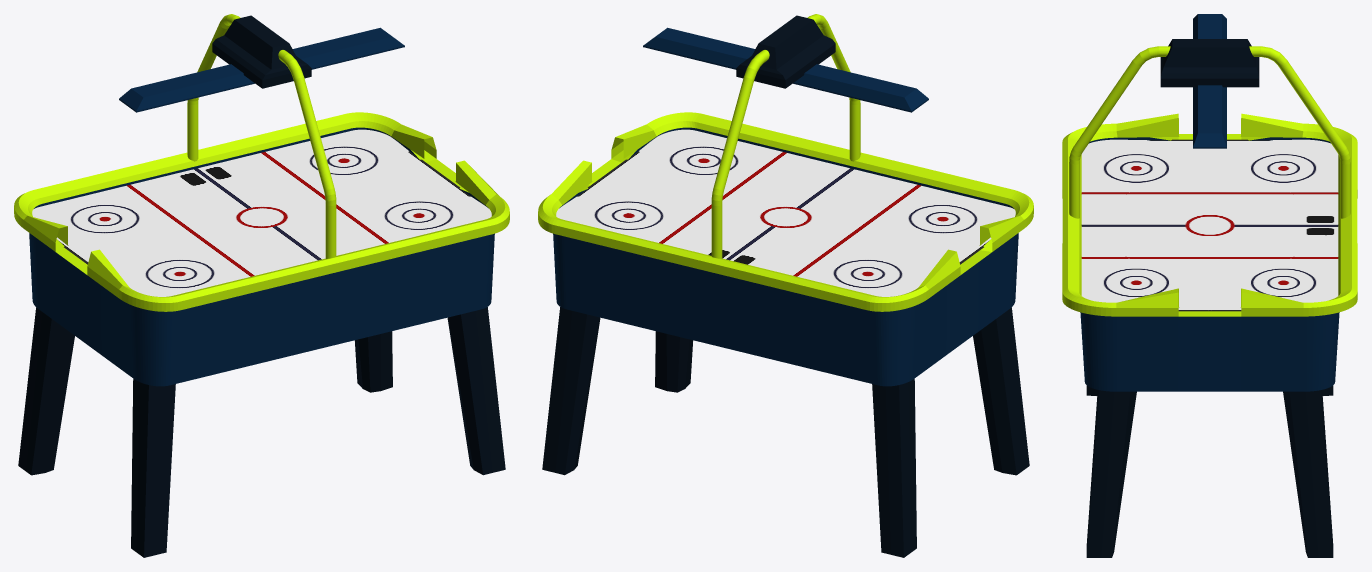
Rendered from GEO_airhockeytable.obj.
3 views of the same model, side by side, from view 1: azimuth 30°, elevation 25°; view 2: azimuth 150°, elevation 25°; view 3: azimuth 270°, elevation 25° (orthographic).
Visible parts, largest first — view 1: GEO_airhockeytable_Plane; view 2: GEO_airhockeytable_Plane; view 3: GEO_airhockeytable_Plane.
Part boxes in pixels (box(x1,y1,x2,y2)): GEO_airhockeytable_Plane: box(14, 14, 509, 557); GEO_airhockeytable_Plane: box(538, 14, 1033, 557); GEO_airhockeytable_Plane: box(1062, 14, 1357, 557).
Bounding box in the file's own units: 31.8 × 34.78 × 21.72.
